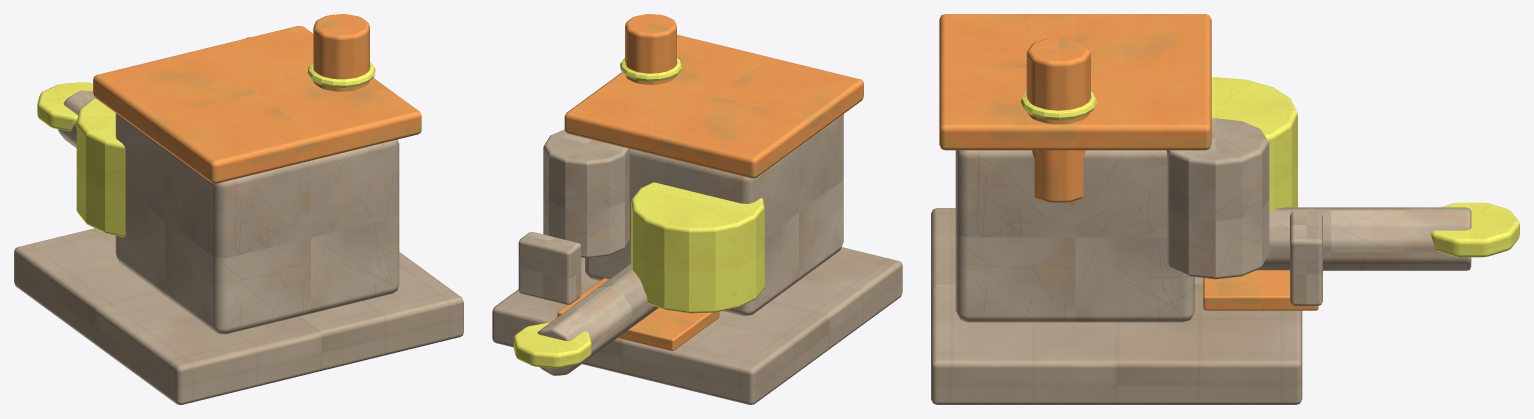
File: ff-waterpump.glb
3 renders of one model, left to right at view 1: azimuth 30°, elevation 25°; view 2: azimuth 150°, elevation 25°; view 3: azimuth 270°, elevation 25°, orthographic. The views are drawn at different scales.
Parts seen in each view (by area): view 1: House, Base.001, HouseRoof, Volute; view 2: House, HouseRoof, Base.001, Volute, FanCover; view 3: House, HouseRoof, Base.001, Volute, FanCover.
Part boxes in pixels (x1=…): House: x1=58, y1=37, x2=399, y2=334; Base.001: x1=14, y1=228, x2=463, y2=404; HouseRoof: x1=93, y1=14, x2=421, y2=235; Volute: x1=37, y1=61, x2=375, y2=237; House: x1=537, y1=114, x2=843, y2=375; HouseRoof: x1=557, y1=14, x2=863, y2=350; Base.001: x1=492, y1=247, x2=902, y2=404; Volute: x1=513, y1=57, x2=764, y2=368; FanCover: x1=518, y1=232, x2=581, y2=304; House: x1=955, y1=118, x2=1471, y2=322; HouseRoof: x1=939, y1=14, x2=1318, y2=310; Base.001: x1=931, y1=208, x2=1302, y2=404; Volute: x1=1020, y1=77, x2=1519, y2=257; FanCover: x1=1290, y1=211, x2=1322, y2=305.
Bounding box in the file's own units: 0.9 × 0.86 × 1.43.
7 materials, 6 textured.
